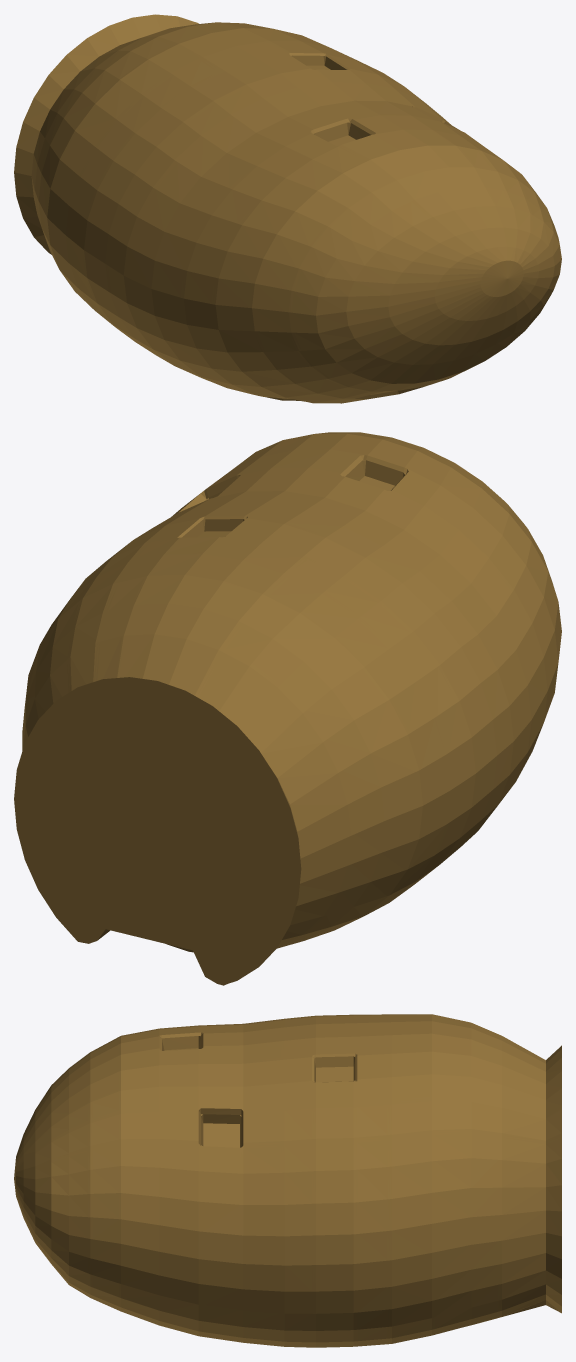
File: PotatoBuilding.dae
The picture shows the model from 3 angles, top to bottom: view 1: azimuth 30°, elevation 25°; view 2: azimuth 150°, elevation 25°; view 3: azimuth 270°, elevation 25°; orthographic projection. The views are drawn at different scales.
Parts seen in each view (by area): view 1: Circle; view 2: Circle; view 3: Circle.
Part boxes in pixels (left/top/right/bottom): Circle: left=14, top=14, right=561, bottom=403; Circle: left=14, top=432, right=561, bottom=985; Circle: left=14, top=1014, right=561, bottom=1347.
Bounding box in the file's own units: 4.82 × 3.86 × 6.65.
